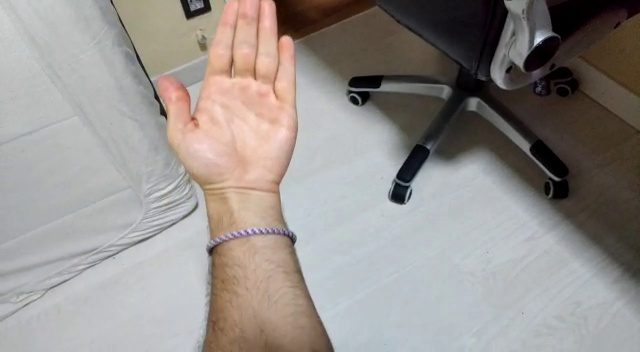Palm: (153, 1, 302, 204)
